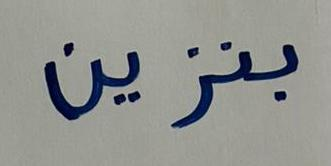beh: (260, 33, 309, 121)
noon: (34, 28, 106, 130), (214, 28, 257, 103)
yeh: (108, 32, 160, 128)
zain: (166, 29, 213, 139)
